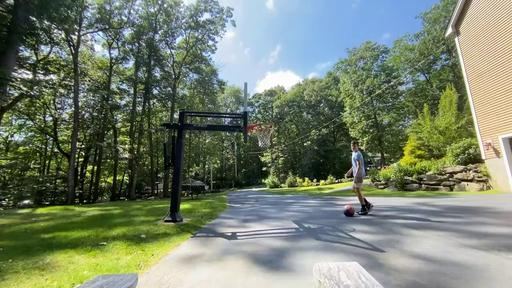ball: (343, 204, 355, 217)
human: (344, 140, 374, 216)
rim: (250, 123, 274, 147)
